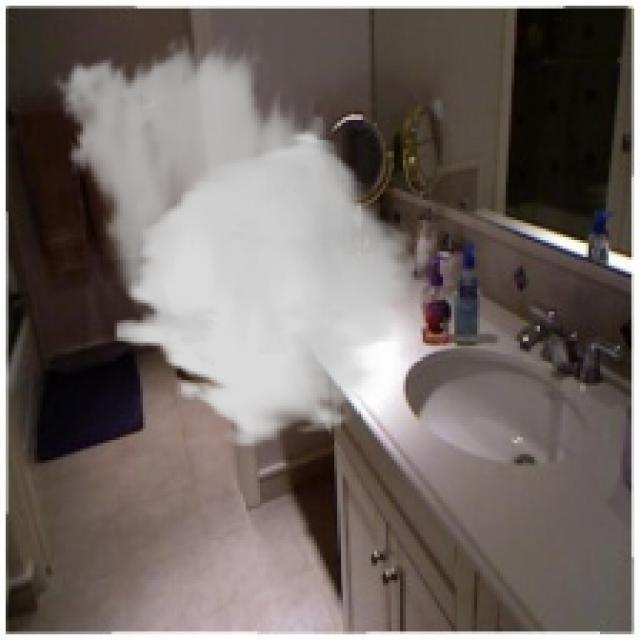smoke: (46, 34, 414, 449)
